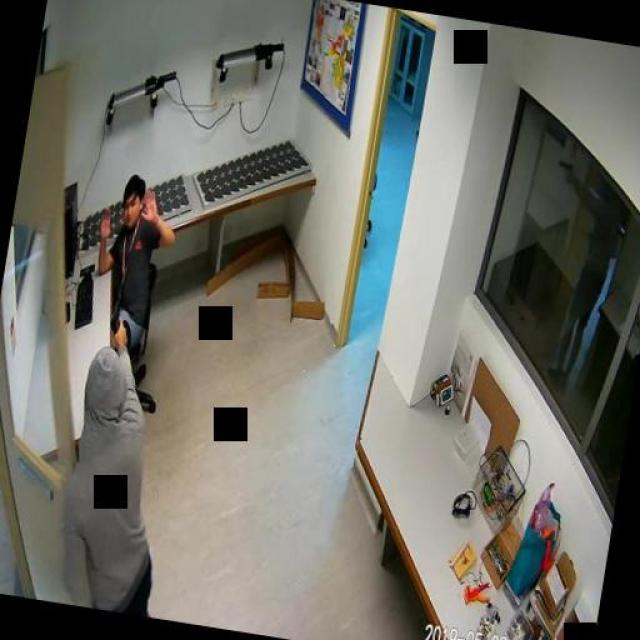gun: (105, 294, 130, 344)
